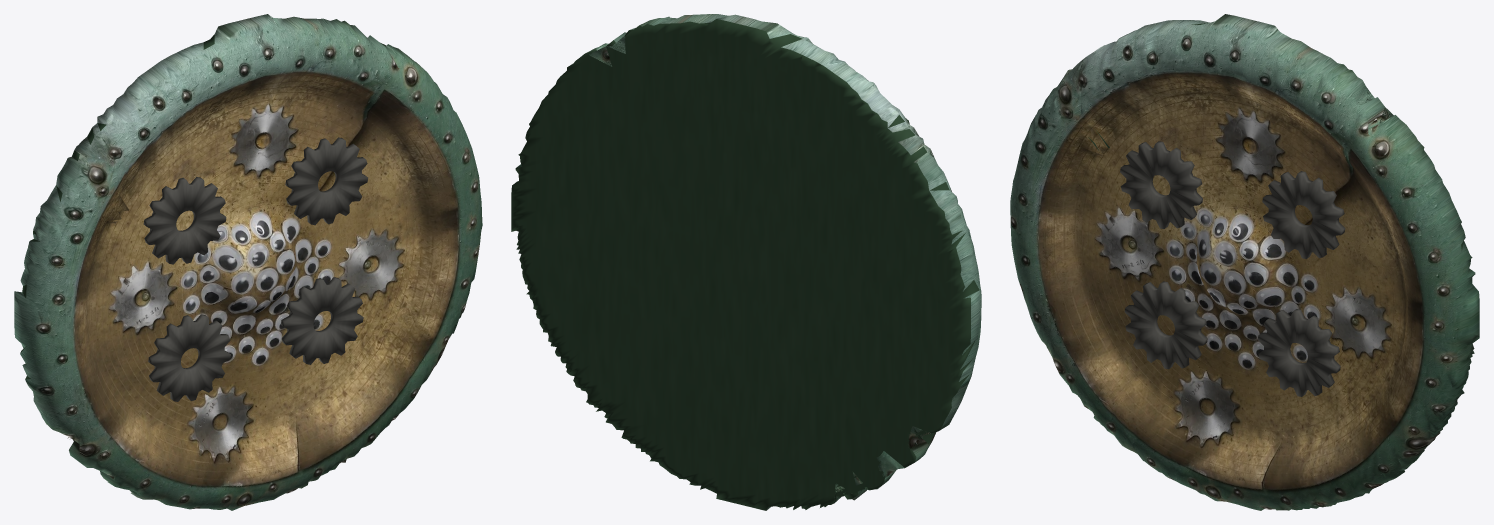
The model's file is escultura-esc-020.glb.
The picture shows the model from 3 angles, left to right: view 1: azimuth 30°, elevation 25°; view 2: azimuth 150°, elevation 25°; view 3: azimuth 330°, elevation 25°; orthographic projection.
Parts seen in each view (by area): view 1: world; view 2: world; view 3: world.
Part boxes in pixels (x1,y1,x2,y2): world: (14,14,482,510); world: (511,14,981,510); world: (1010,14,1479,510).
Size of the model in its own units: 0.521 by 0.52 by 0.0439.
1 material, 1 textured.
